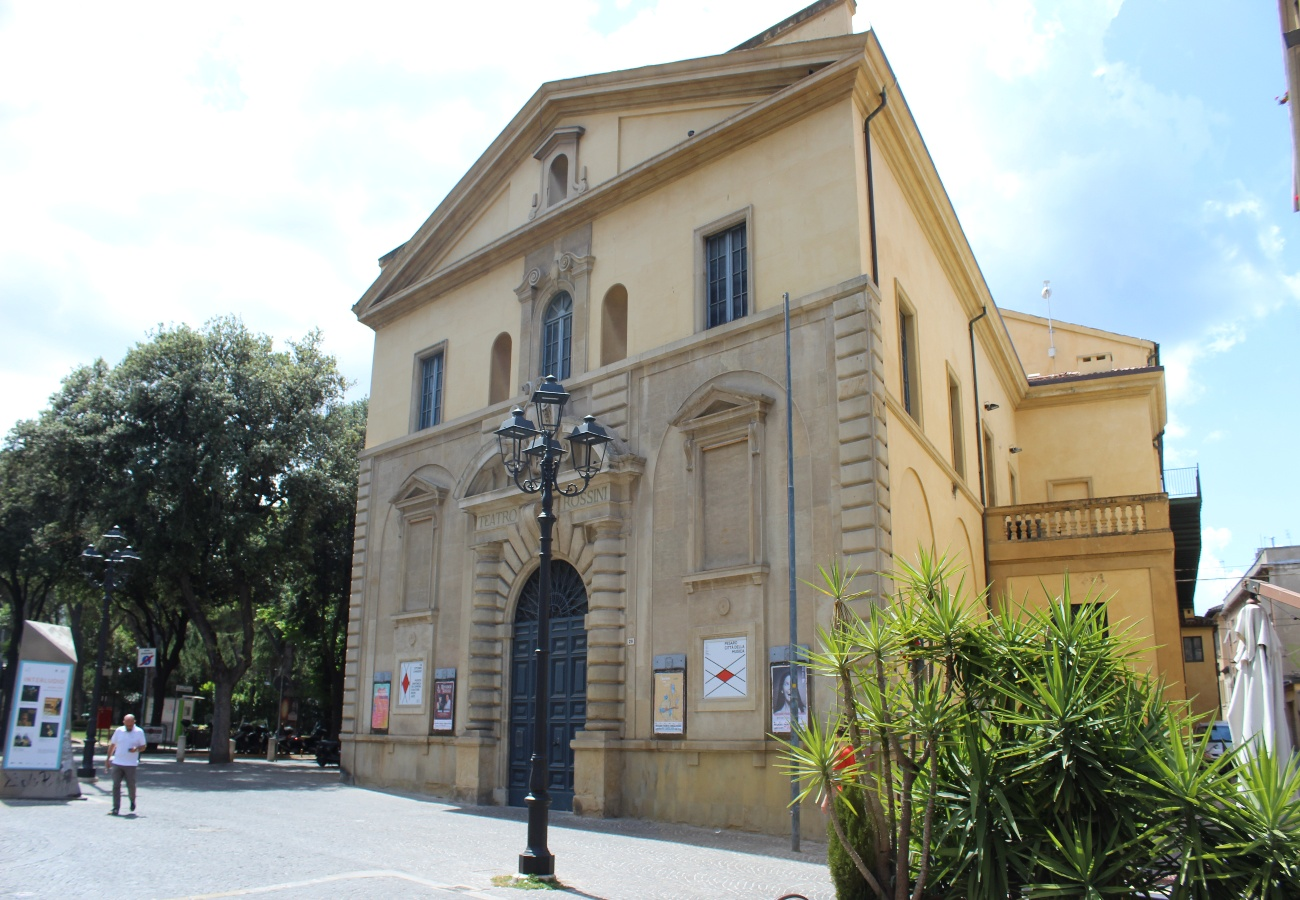Teatro Rossini: (338, 1, 899, 865)
